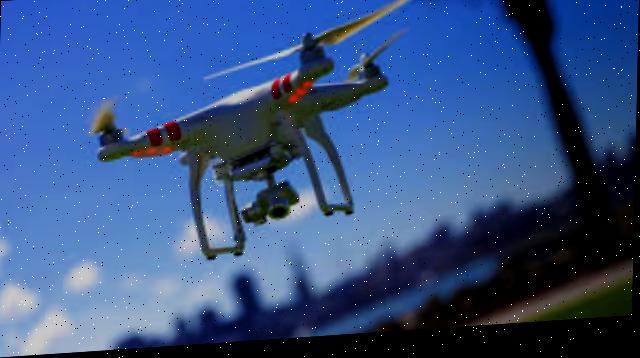drone: (93, 12, 414, 275)
